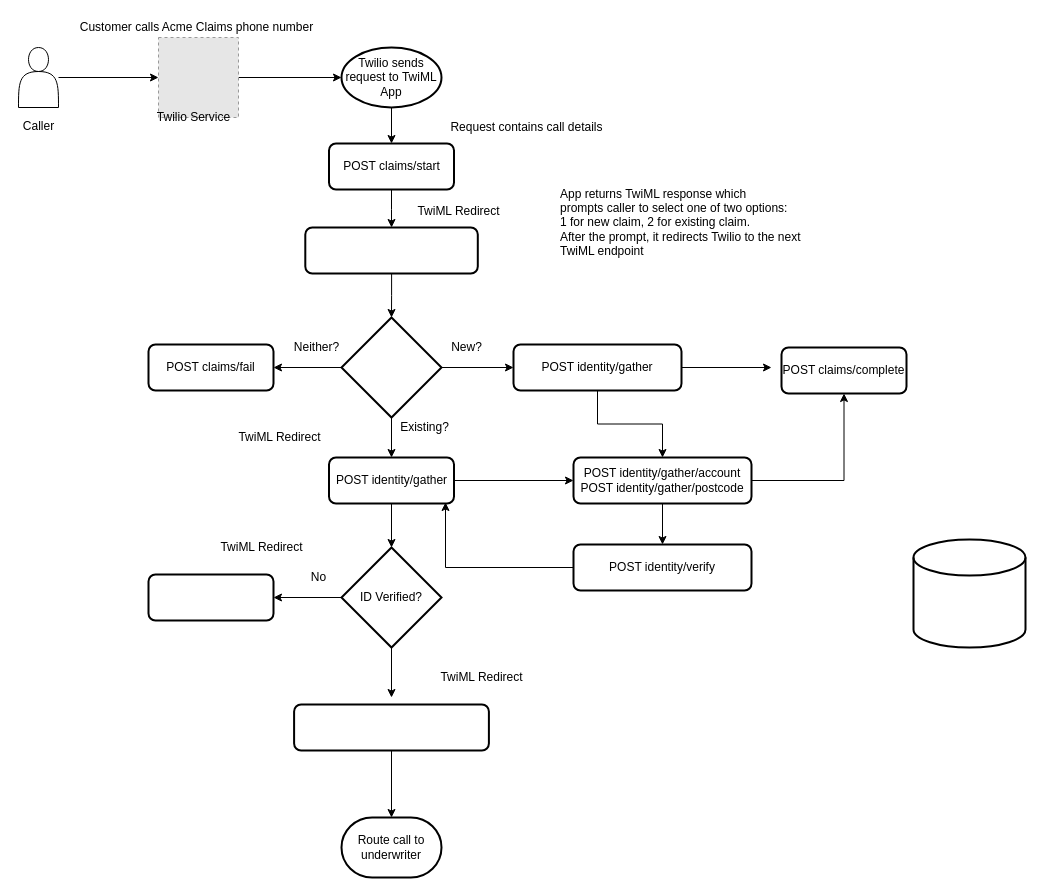
The diagram is 1043 pixels wide and 895 high, and some of its shapes have lost their labels. Grey dashed boxes stand in for pictures. The shapes that lost their labels are listed below. From the top down, each one's centre as x and y in pixels, then its label:
point 391,250: POST claims/gather/option
point 391,367: Selected Option
point 210,597: POST identity/fail
point 969,593: Cache | Database
point 391,727: POST claims/redirect/underwriter
